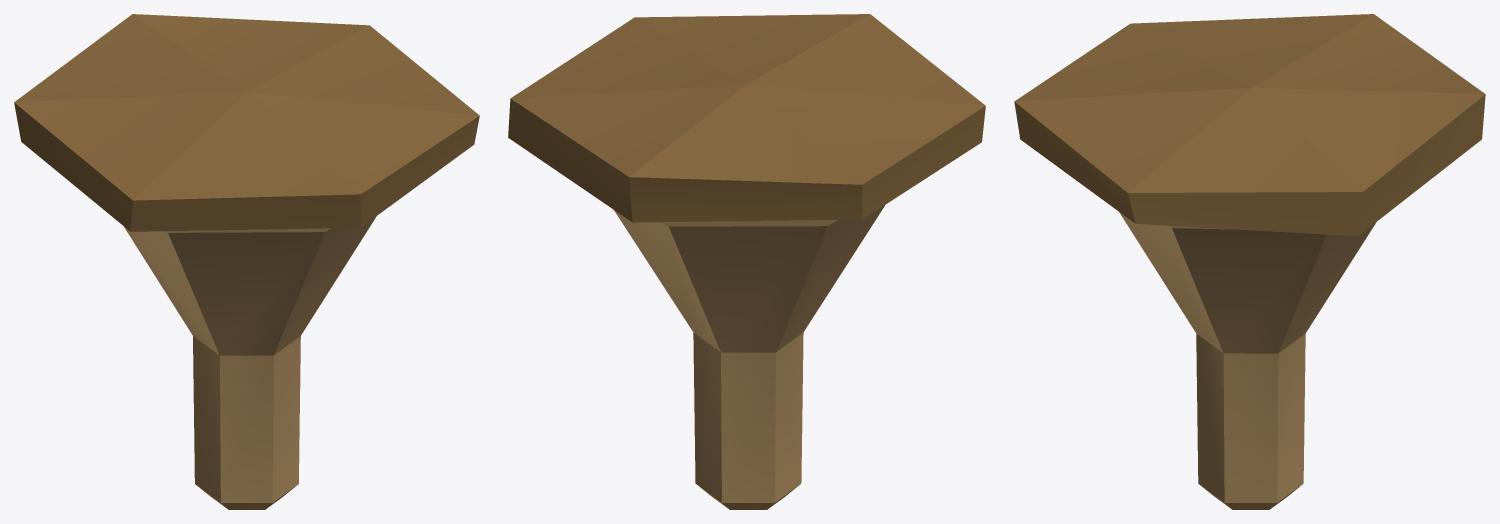
The model's file is Mushroom(4).fbx.
3 views of the same model, side by side, from view 1: azimuth 30°, elevation 25°; view 2: azimuth 150°, elevation 25°; view 3: azimuth 270°, elevation 25° (orthographic).
Visible parts, largest first — view 1: Mushroom(4); view 2: Mushroom(4); view 3: Mushroom(4).
Part boxes in pixels (x1,y1,x2,y2): Mushroom(4): (14,14,479,509); Mushroom(4): (508,14,985,509); Mushroom(4): (1014,14,1485,509).
Bounding box in the file's own units: 0.1676 × 0.1816 × 0.1895.
